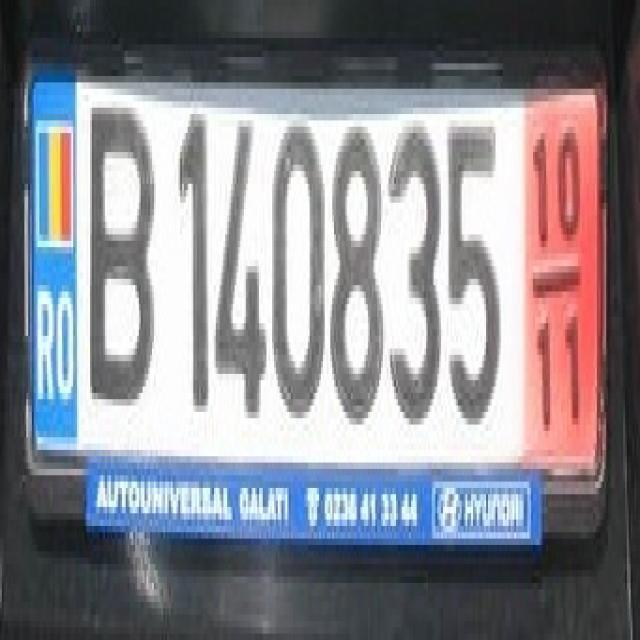LicensePlate: (8, 11, 635, 632)
